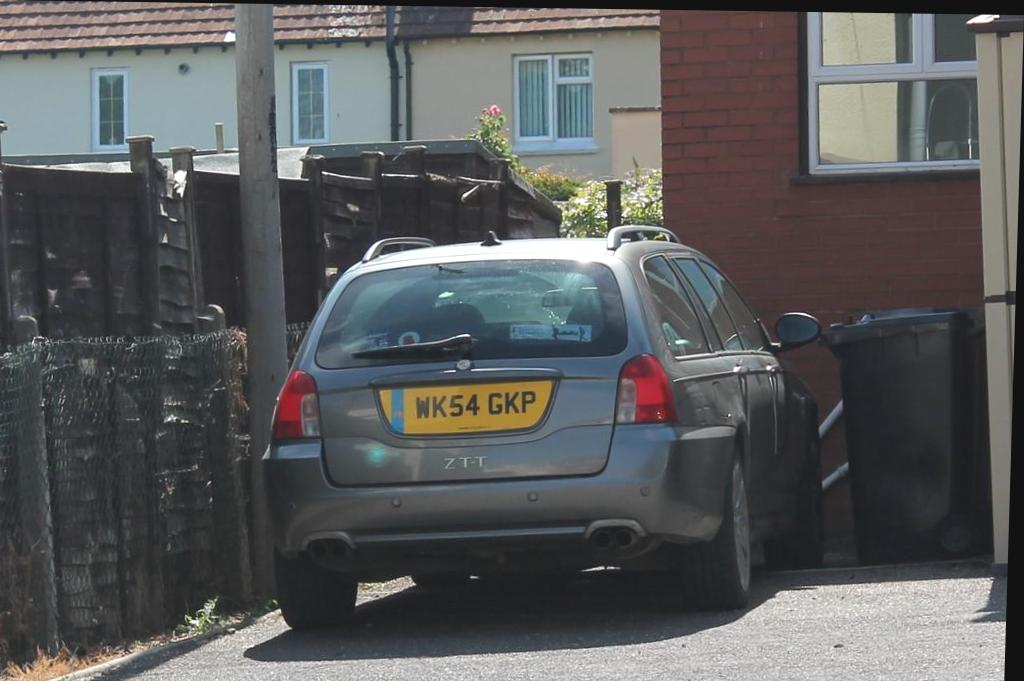License_Plate: (374, 381, 553, 438)
